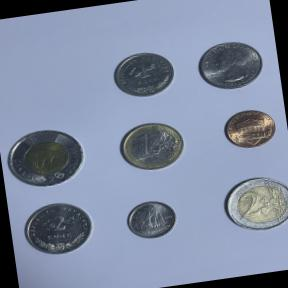1 Euro: (112, 115, 190, 176)
2 Euro: (217, 169, 288, 238)
Canda-10cent-: (120, 194, 183, 244)
Canda-2Dollar-: (0, 121, 91, 194)
Croatia-2Kune-: (18, 196, 98, 260)
US-1cent-: (218, 104, 280, 154)
US-25cent-: (190, 34, 272, 95)
